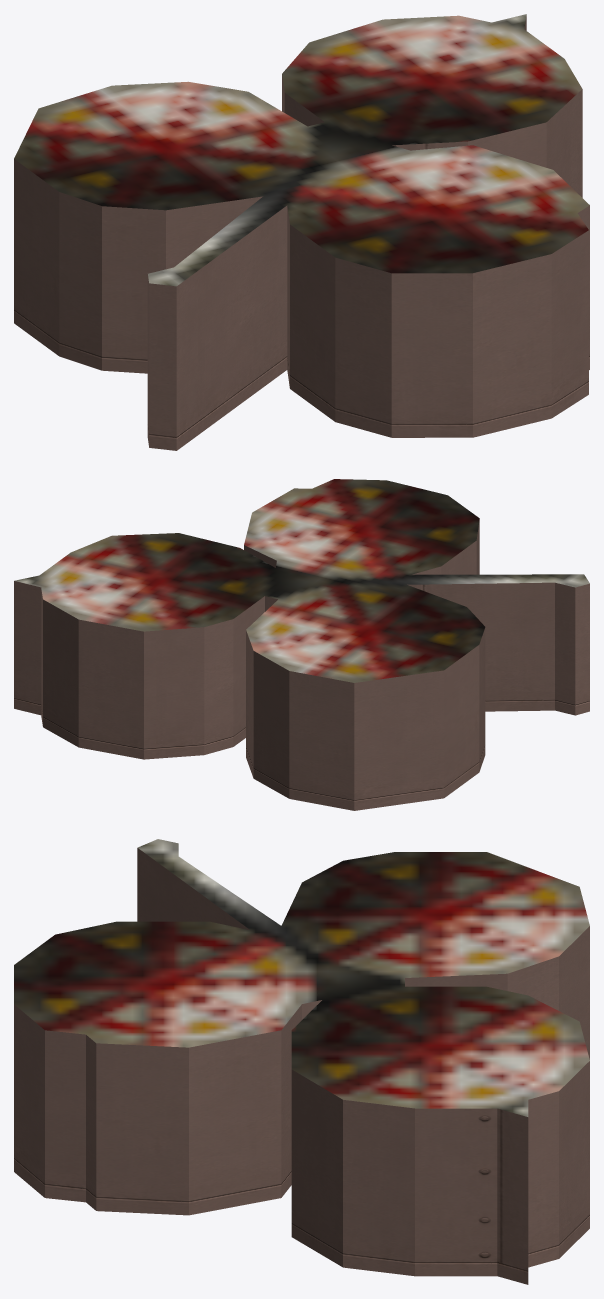
The model's file is fuel_tank_heavy_18.glb.
The picture shows the model from 3 angles, top to bottom: view 1: azimuth 30°, elevation 25°; view 2: azimuth 150°, elevation 25°; view 3: azimuth 270°, elevation 25°; orthographic projection. The views are drawn at different scales.
Visible parts, largest first — view 1: buildings/saxarba/fuel_tanks/fuel_tank_heavy_18; view 2: buildings/saxarba/fuel_tanks/fuel_tank_heavy_18; view 3: buildings/saxarba/fuel_tanks/fuel_tank_heavy_18.
Part boxes in pixels (bbox=[...]): buildings/saxarba/fuel_tanks/fuel_tank_heavy_18: bbox=[14, 14, 589, 450]; buildings/saxarba/fuel_tanks/fuel_tank_heavy_18: bbox=[14, 479, 589, 810]; buildings/saxarba/fuel_tanks/fuel_tank_heavy_18: bbox=[14, 839, 589, 1284].
Size of the model in its own units: 64 by 18 by 56.
